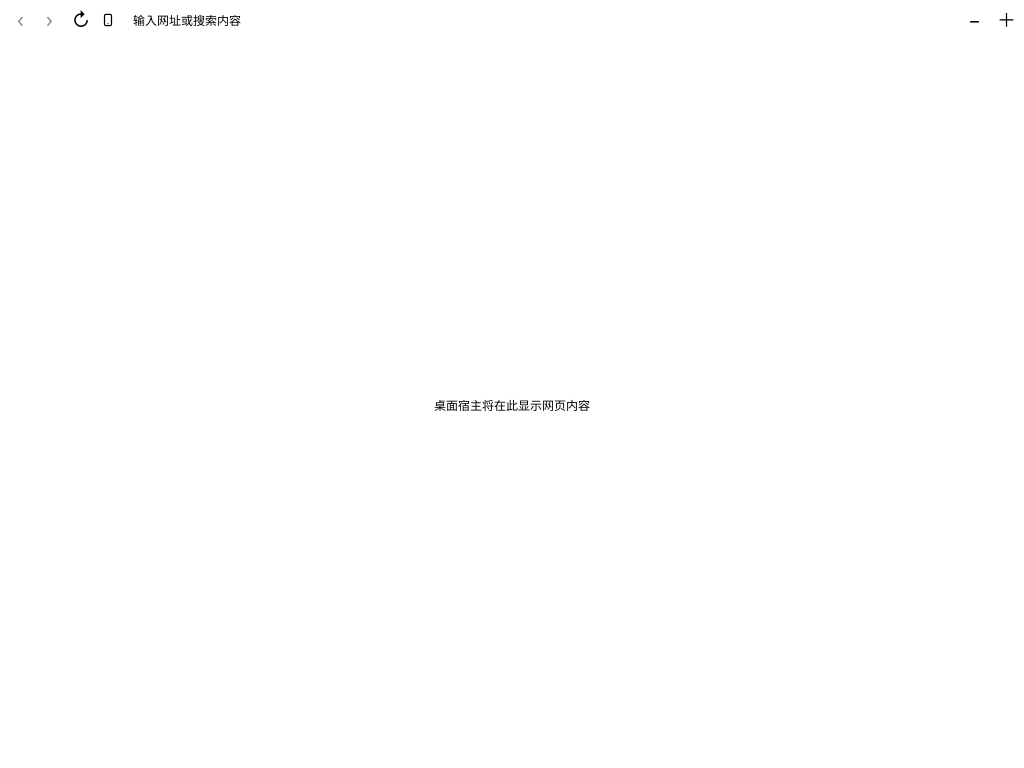
Test: BrowserPanel › hides the empty-tab hint once a real URL is present and shows host load errors
The image size is (1024, 768).
Expected: the text "桌面宿主将在此显示网页内容" is shown, [434, 398, 590, 413]
Type "google.com" into the field named "浏览器地址" at (541, 20), box [124, 7, 958, 34]
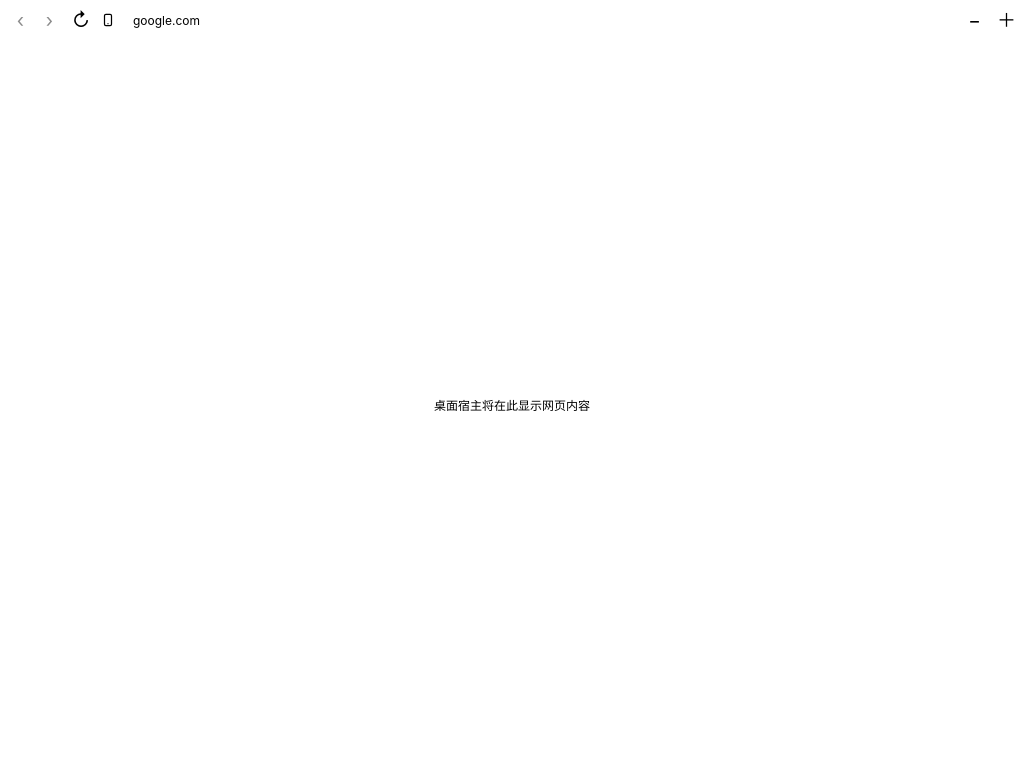
Submit the form named "浏览器地址", box [0, 0, 1023, 41]
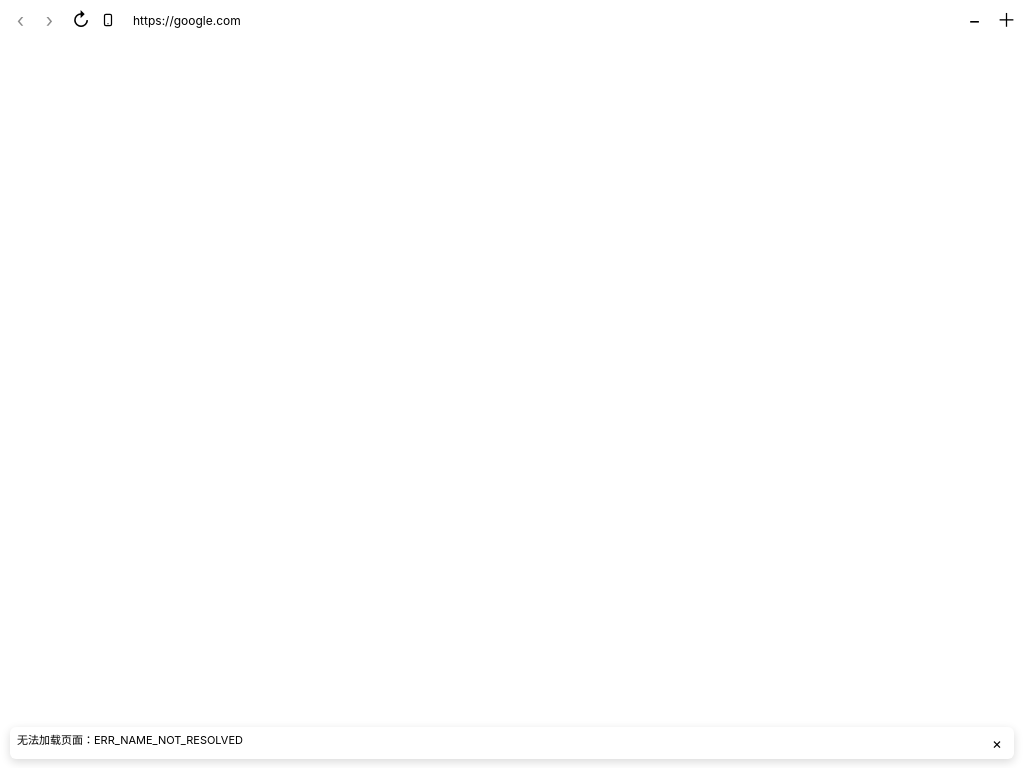
Expected: the field named "浏览器地址" holds "https://google.com", [124, 7, 958, 34]
Expected: the text "桌面宿主将在此显示网页内容" is gone
Expected: the message shows "无法加载页面：ERR_NAME_NOT_RESOLVED", [17, 733, 243, 747]
